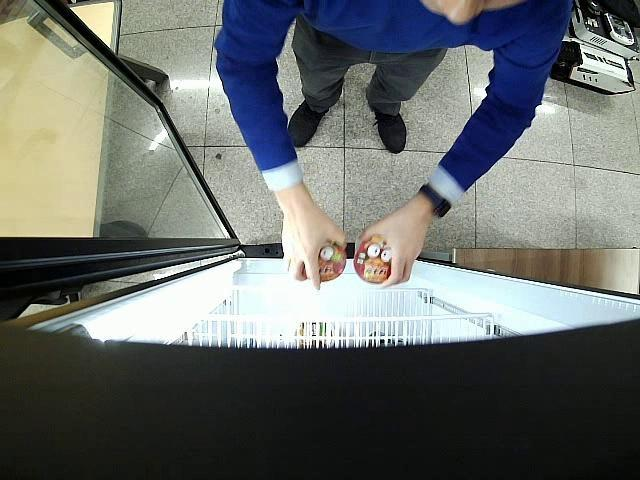06_nuguri_S: (354, 234, 392, 284), (302, 239, 346, 282)
